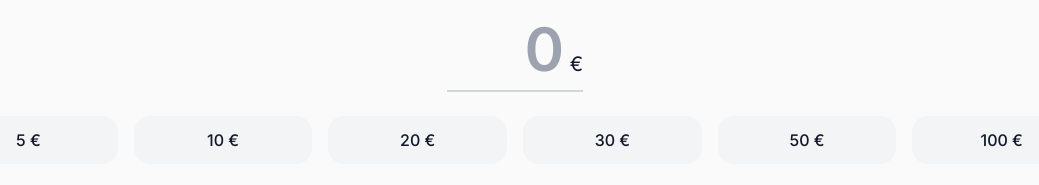
Test: AmountPicker › clicking a second chip moves the active state and updates the input
Click the button "20 €". click: (418, 140)
box: [328,116,507,164]
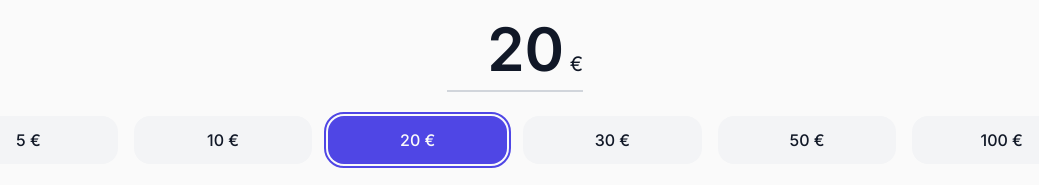
Click the button "50 €". click: (807, 140)
box: [718,116,896,164]
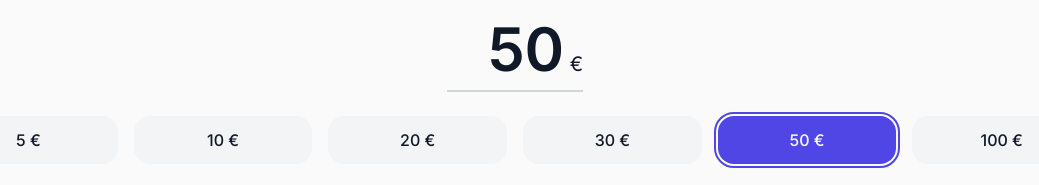
Now the field named "Vlastná suma" holds "50", box [447,12,566,86]
